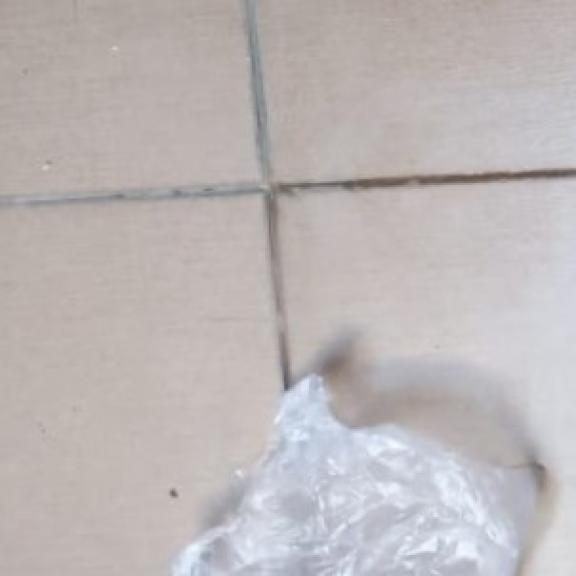Plastik: (170, 373, 545, 576)
